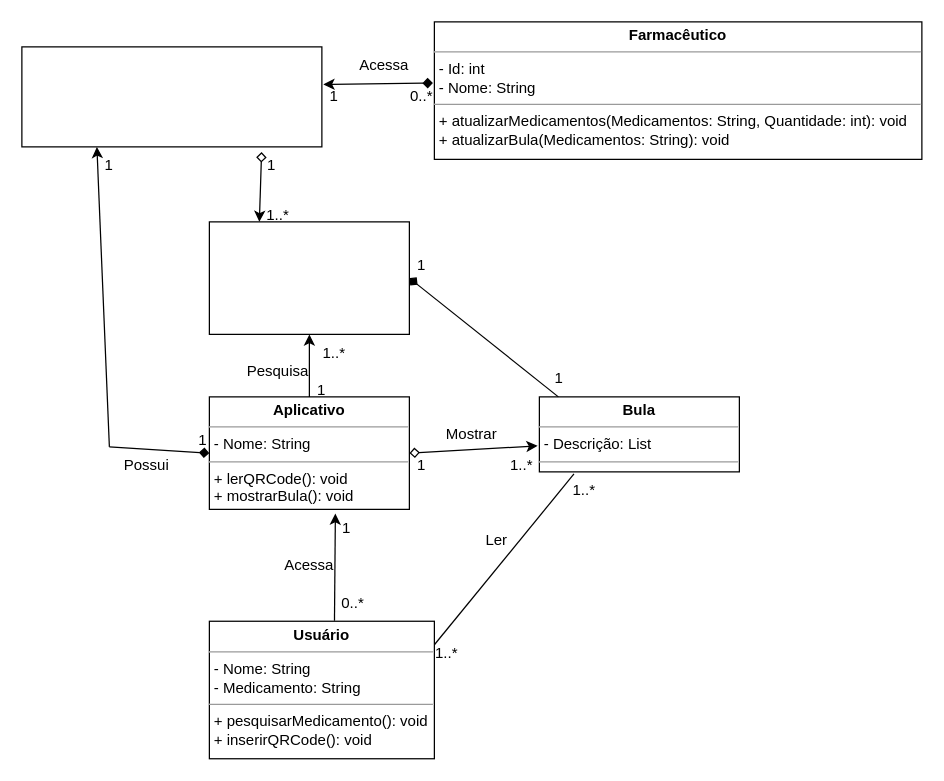
Image size: 944x781. Some labels were removed from this diagram. Here are the shapes that lost their labels. From the top down, the centre of each, then its label:
At pixel 171 96: "Banco de Dados - Medicamentos: List - Quantidade: int".
At pixel 308 277: "Medicamento - Nome: String - Bula: String - QRCodeUsuário: byte".
